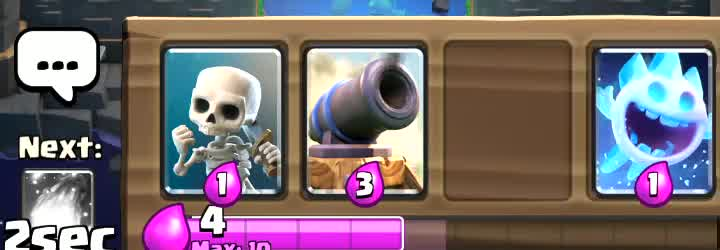cannon: (314, 50, 427, 195)
ice-spirit: (598, 46, 714, 202)
